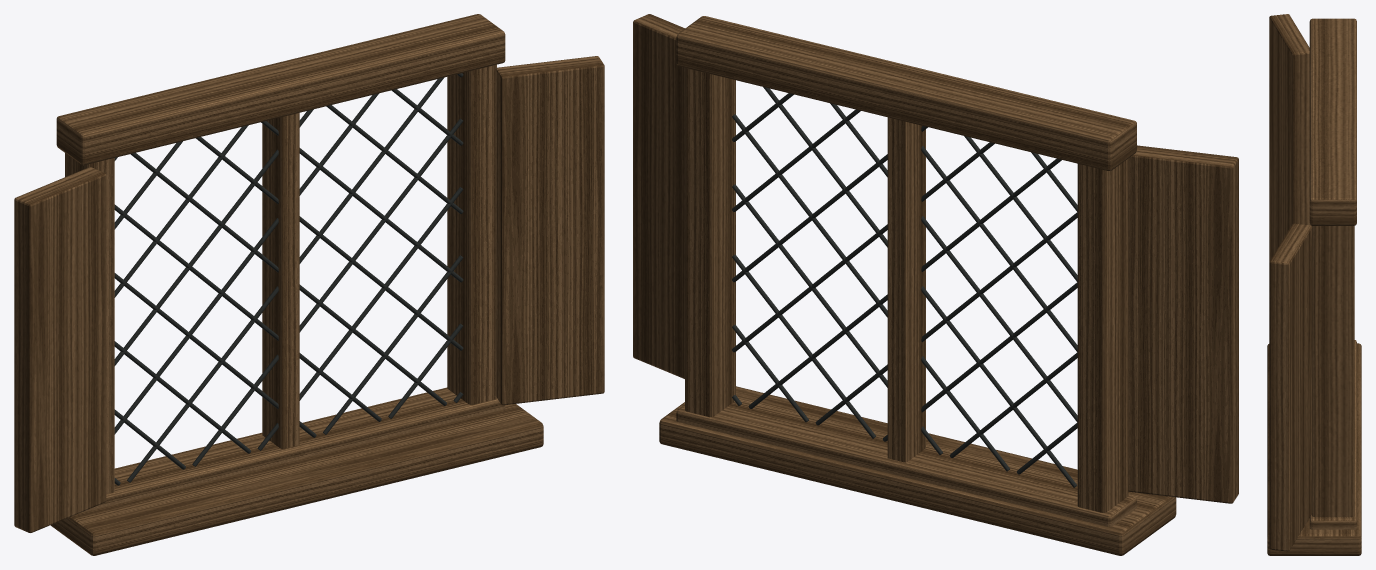
The model's file is tavern-window.glb.
The picture shows the model from 3 angles, left to right: view 1: azimuth 30°, elevation 25°; view 2: azimuth 150°, elevation 25°; view 3: azimuth 270°, elevation 25°; orthographic projection. The views are drawn at different scales.
Visible parts, largest first — view 1: tavern-window - Tavern honey oak joinery runtime PBR, tavern-window - Tavern aged timber framing runtime PBR, tavern-window - Tavern forged black iron runtime PBR; view 2: tavern-window - Tavern honey oak joinery runtime PBR, tavern-window - Tavern aged timber framing runtime PBR, tavern-window - Tavern forged black iron runtime PBR; view 3: tavern-window - Tavern honey oak joinery runtime PBR, tavern-window - Tavern aged timber framing runtime PBR.
Part boxes in pixels (left/top/right/bottom): tavern-window - Tavern honey oak joinery runtime PBR: left=50, top=14, right=543, bottom=555; tavern-window - Tavern aged timber framing runtime PBR: left=14, top=56, right=604, bottom=532; tavern-window - Tavern forged black iron runtime PBR: left=114, top=73, right=463, bottom=485; tavern-window - Tavern honey oak joinery runtime PBR: left=659, top=16, right=1176, bottom=555; tavern-window - Tavern aged timber framing runtime PBR: left=633, top=14, right=1238, bottom=503; tavern-window - Tavern forged black iron runtime PBR: left=732, top=87, right=1077, bottom=487; tavern-window - Tavern honey oak joinery runtime PBR: left=1267, top=18, right=1361, bottom=555; tavern-window - Tavern aged timber framing runtime PBR: left=1269, top=14, right=1312, bottom=551.
Bounding box in the file's own units: 2.51 × 1.64 × 0.4.
Materials: 4 (3 with a texture image).
